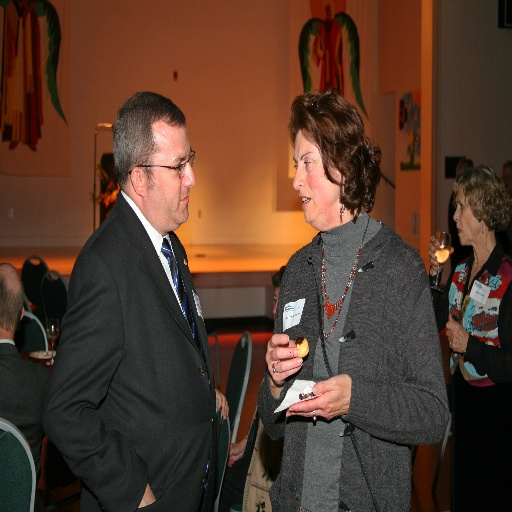hand: (271, 359, 354, 426), (264, 329, 304, 388), (428, 230, 454, 271), (445, 312, 469, 353), (214, 389, 229, 421), (225, 442, 242, 468), (138, 483, 155, 508)
